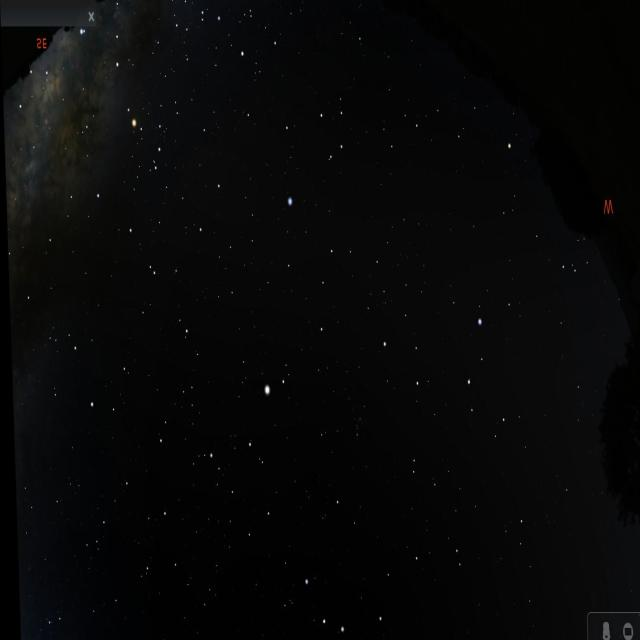bootes: (215, 378, 286, 559)
leo: (380, 291, 516, 444)
scorpius: (100, 21, 178, 175)
